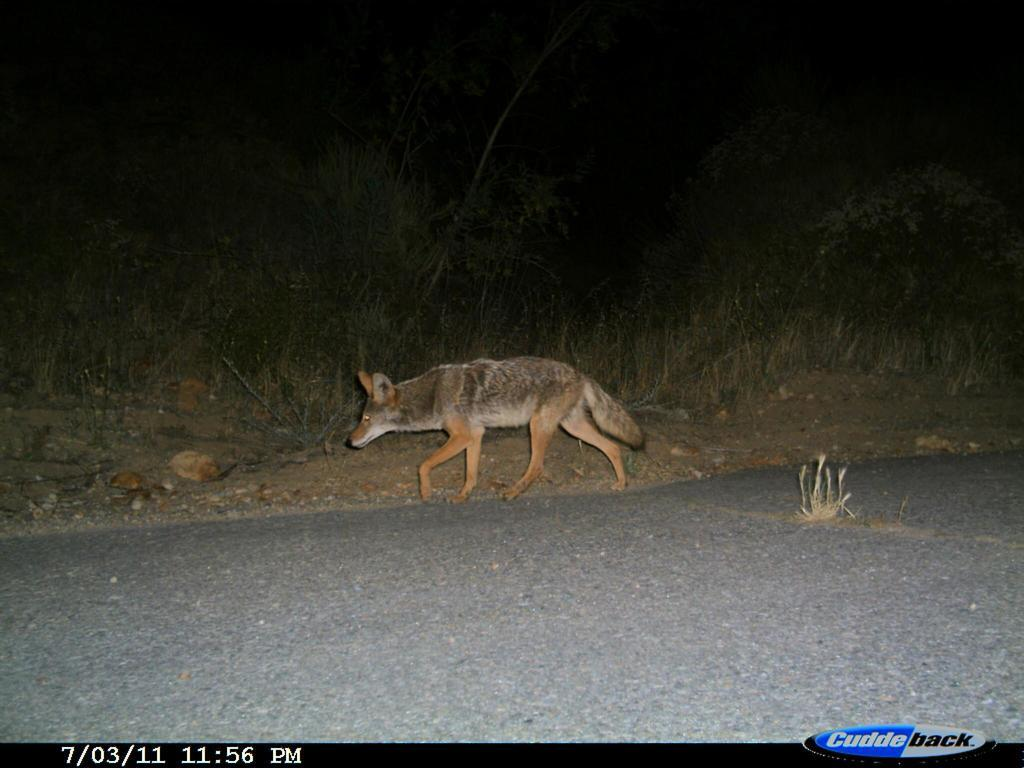coyote: (328, 332, 661, 537)
